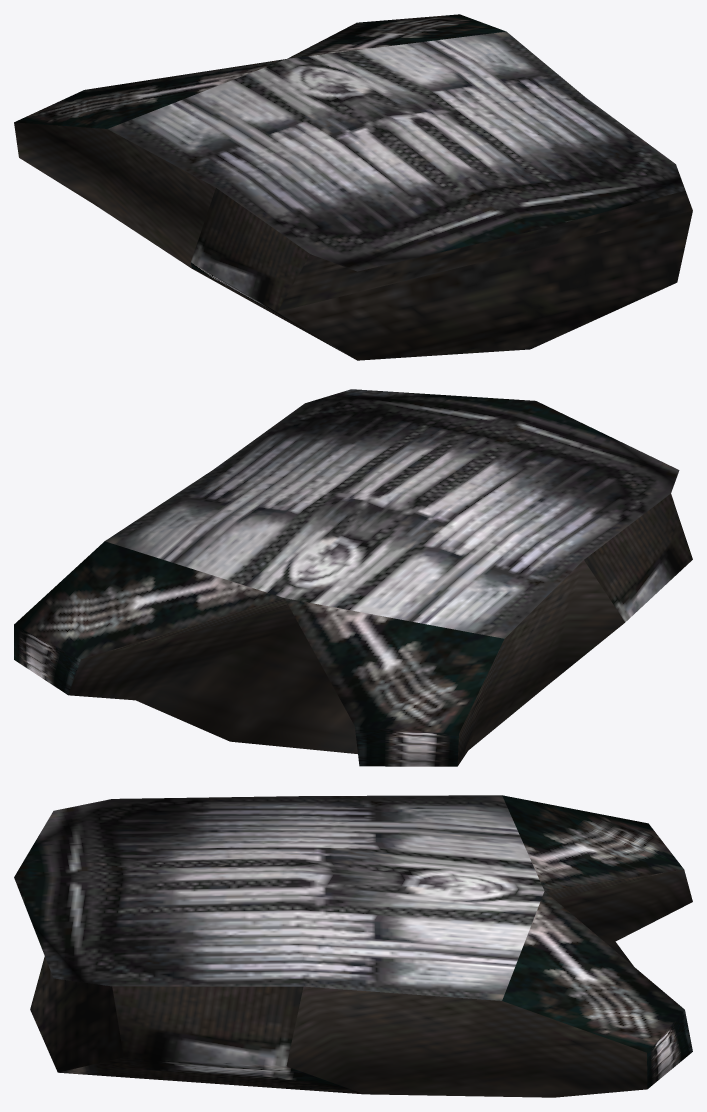
The model's file is TorsoArmour5__EC.glb.
3 views of the same model, one above another, from view 1: azimuth 30°, elevation 25°; view 2: azimuth 150°, elevation 25°; view 3: azimuth 270°, elevation 25° (orthographic). The views are drawn at different scales.
Parts seen in each view (by area): view 1: TorsoArmour5; view 2: TorsoArmour5; view 3: TorsoArmour5.
Part boxes in pixels (<box>): TorsoArmour5: <box>14,14,692,360</box>; TorsoArmour5: <box>14,389,692,766</box>; TorsoArmour5: <box>14,795,692,1097</box>.
Bounding box in the file's own units: 20.33 × 6.01 × 25.43.
1 material, 1 textured.
